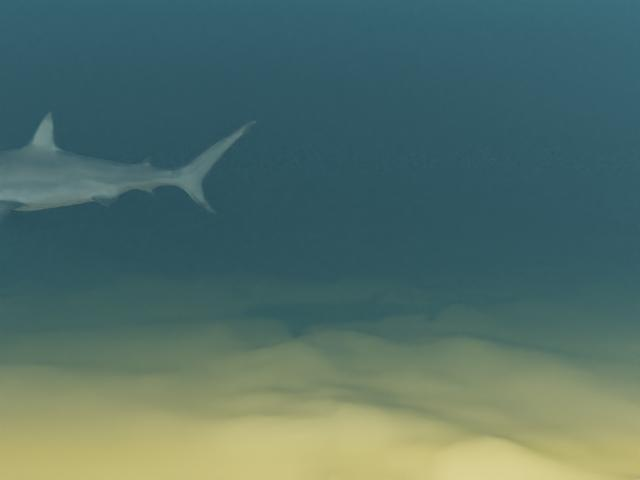Carribean Shark.001: (0, 111, 257, 227)
